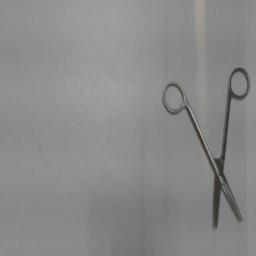Curved Mayo Scissors: (160, 64, 252, 238)
